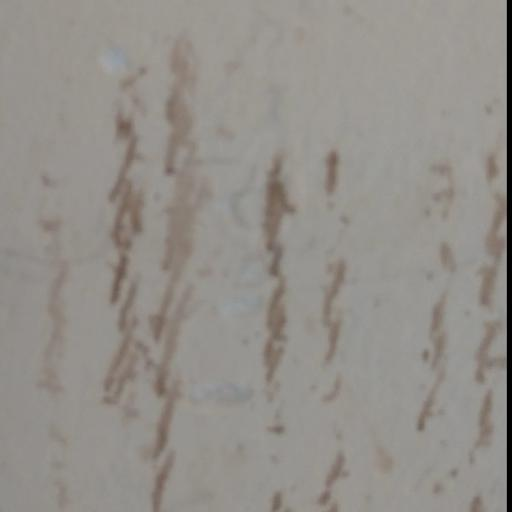stain: (37, 13, 512, 512)
